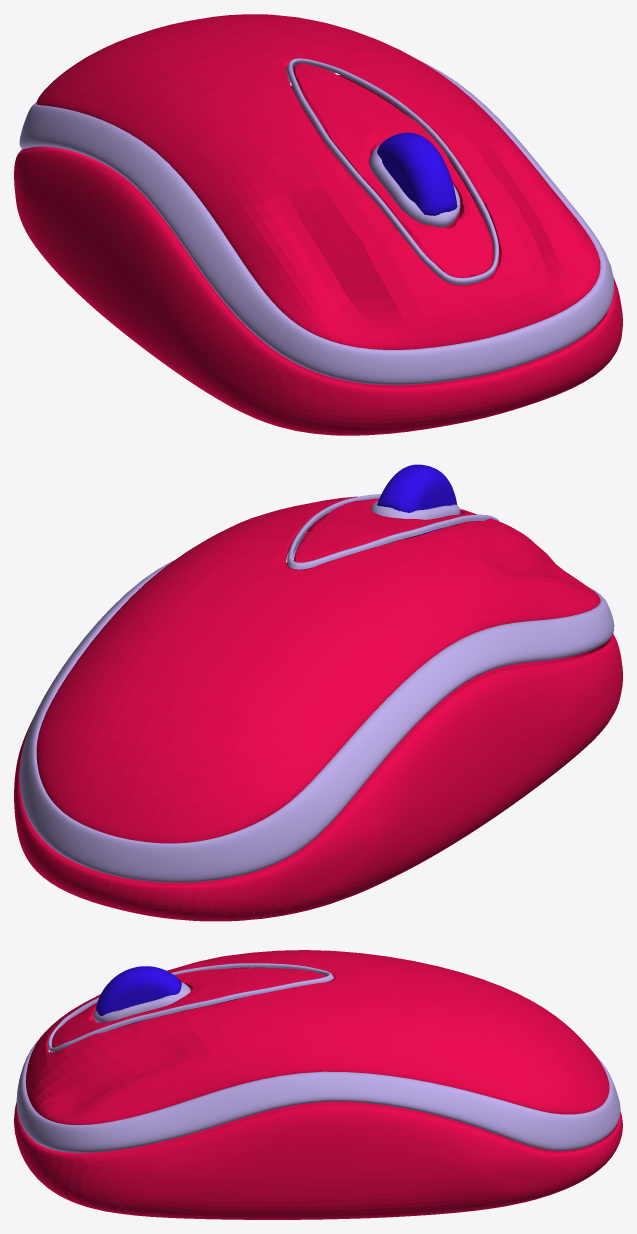
File: mouse.fbx
3 views of the same model, one above another, from view 1: azimuth 30°, elevation 25°; view 2: azimuth 150°, elevation 25°; view 3: azimuth 270°, elevation 25° (orthographic). The views are drawn at different scales.
Visible parts, largest first — view 1: Body, Borders, Scroll; view 2: Body, Borders, Scroll; view 3: Body, Borders, Scroll.
Part boxes in pixels (x1=…): Body: x1=14, y1=14, x2=622, y2=435; Borders: x1=19, y1=58, x2=614, y2=385; Scroll: x1=377, y1=132, x2=457, y2=215; Body: x1=14, y1=496, x2=622, y2=921; Borders: x1=19, y1=494, x2=614, y2=882; Scroll: x1=377, y1=464, x2=457, y2=534; Body: x1=14, y1=950, x2=622, y2=1219; Borders: x1=16, y1=963, x2=620, y2=1152; Scroll: x1=96, y1=966, x2=181, y2=1024.
Size of the model in its own units: 2.32 by 1.38 by 3.95.
